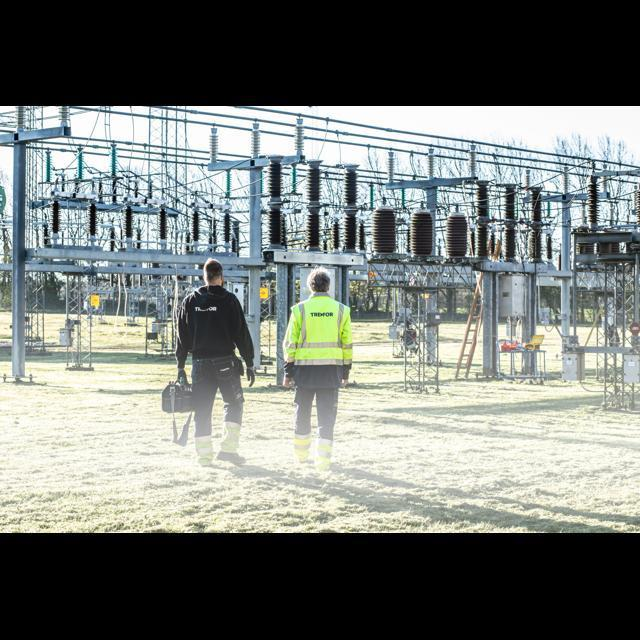Colete: (283, 294, 351, 364)
